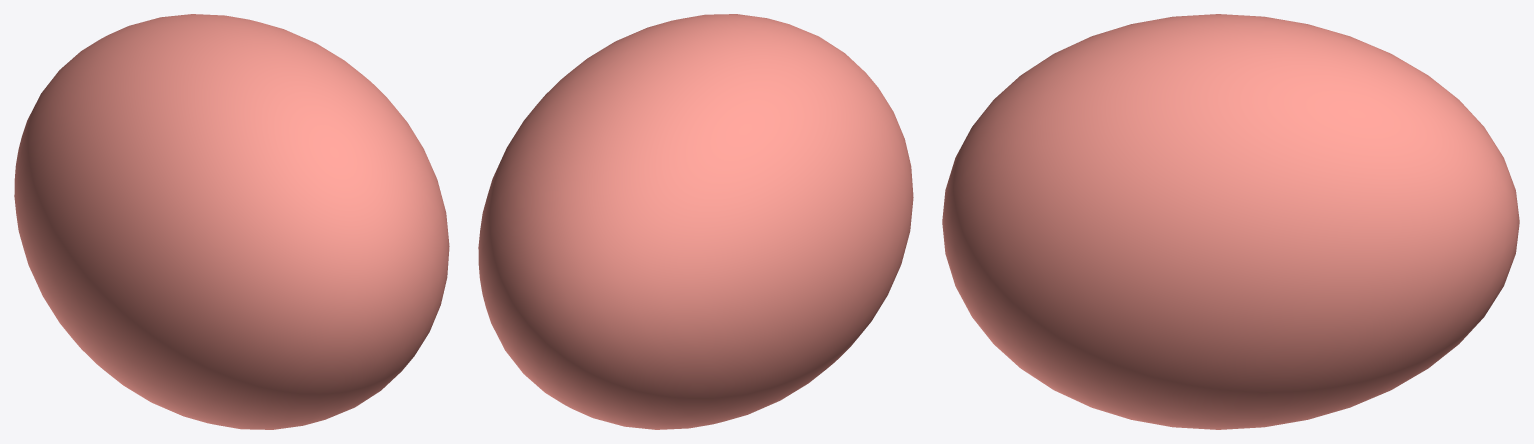
The model's file is brain_low2.fbx.
3 views of the same model, side by side, from view 1: azimuth 30°, elevation 25°; view 2: azimuth 150°, elevation 25°; view 3: azimuth 270°, elevation 25° (orthographic). The views are drawn at different scales.
Visible parts, largest first — view 1: Low; view 2: Low; view 3: Low.
Boxes of the visible parts, x1,y1,x2,y2 form: Low: [14, 14, 449, 429]; Low: [478, 14, 913, 429]; Low: [942, 14, 1519, 429].
Bounding box in the file's own units: 203 × 203 × 281.
